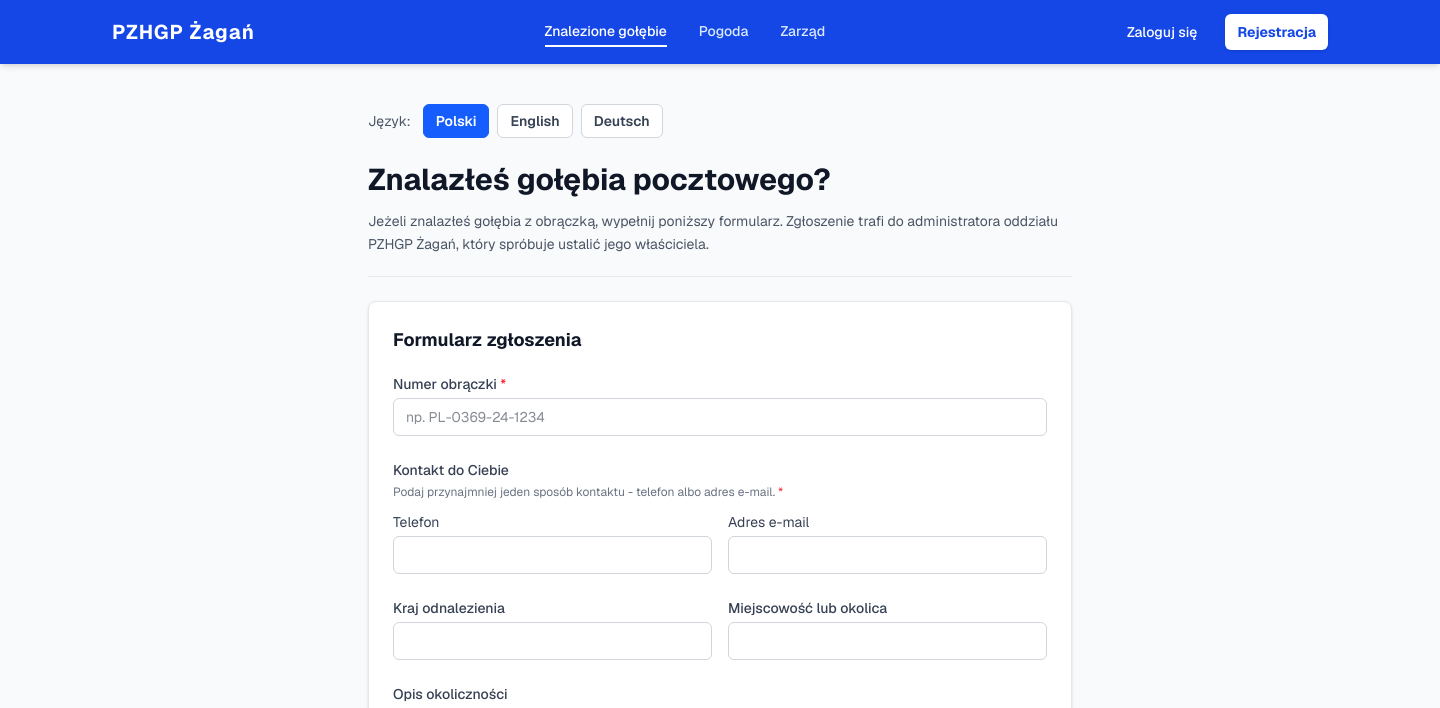
Found Pigeons Page Tests › Should require a ring number
Check: the navigation bar named "Główna nawigacja" is shown, box [0,0,1439,64]
Check: the link "PZHGP Żagań" is shown, box [112,18,255,46]
Type "601234567" into the field with id "contact-phone".
click(553, 555); type("601234567")  # box [393,536,712,574]
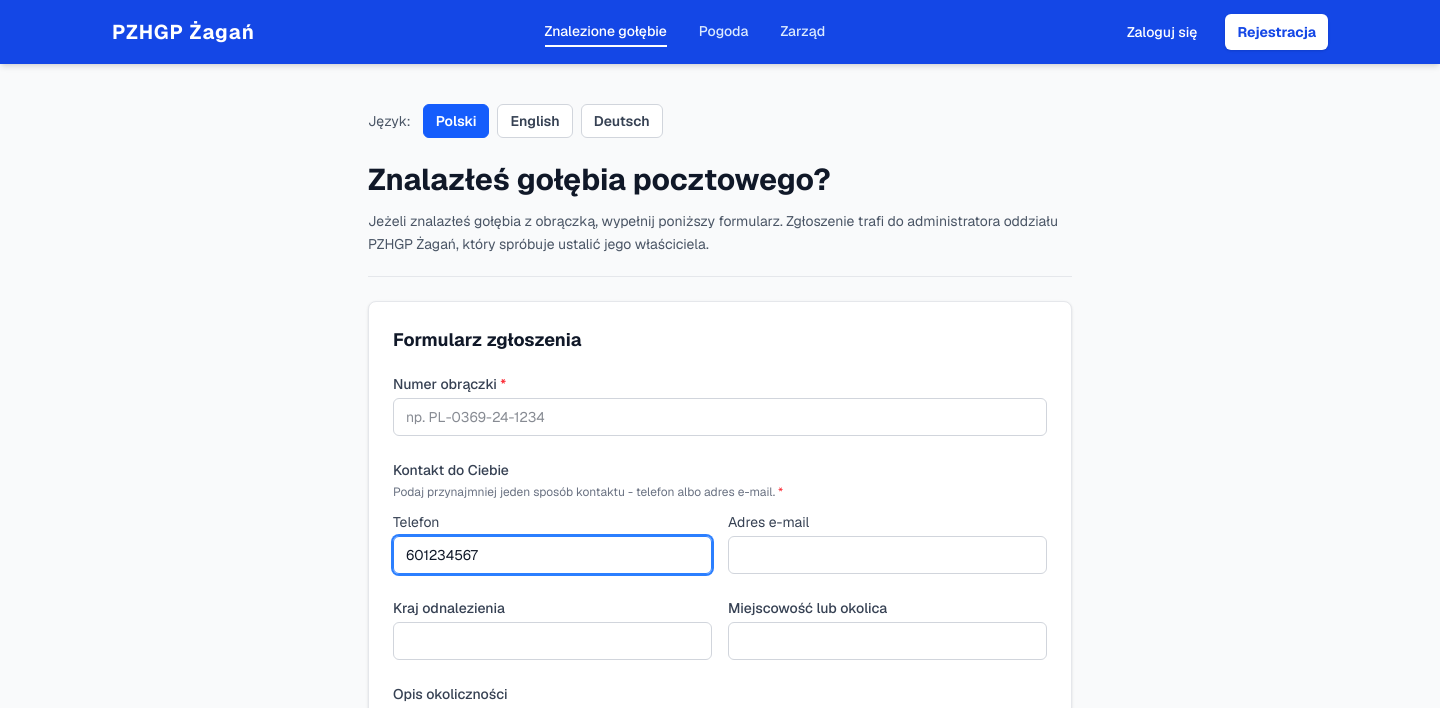
Scroll
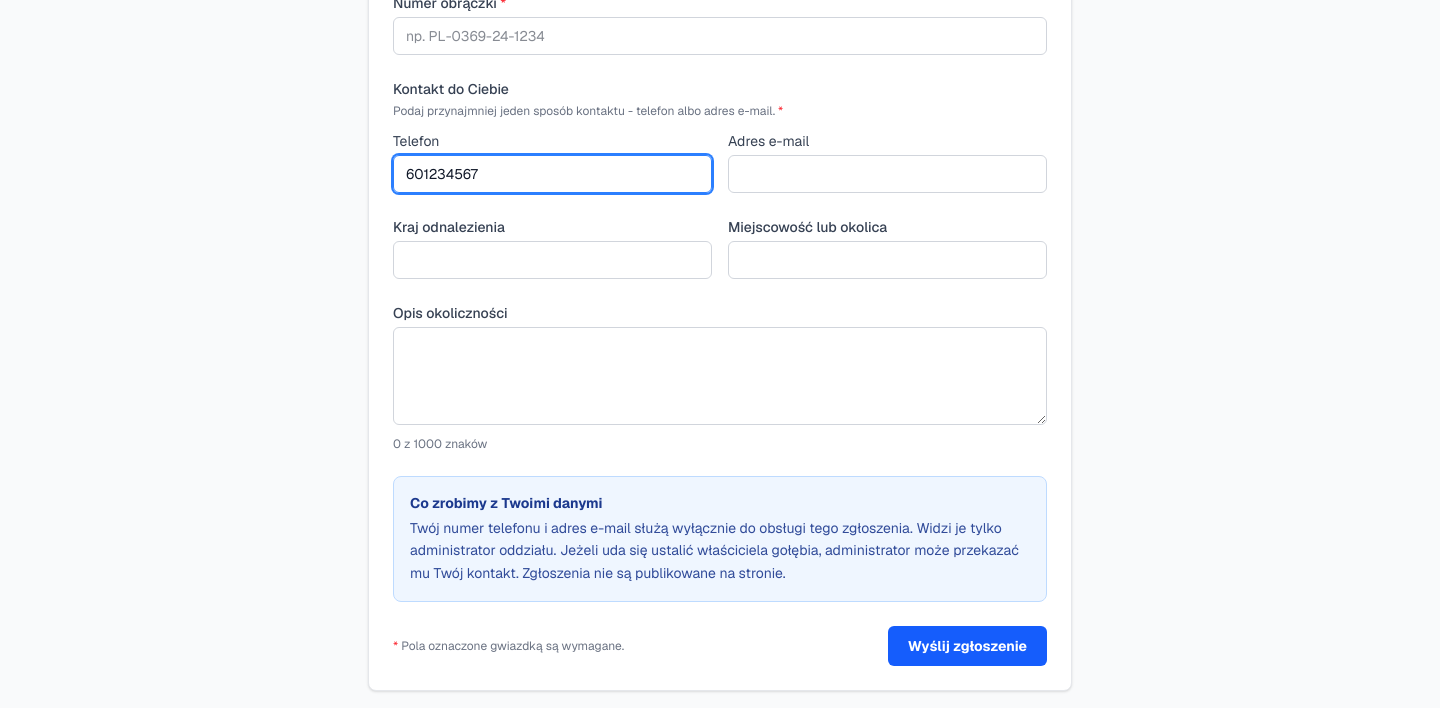
Click the button "Wyślij zgłoszenie".
click(968, 646)  # box [888,626,1047,666]
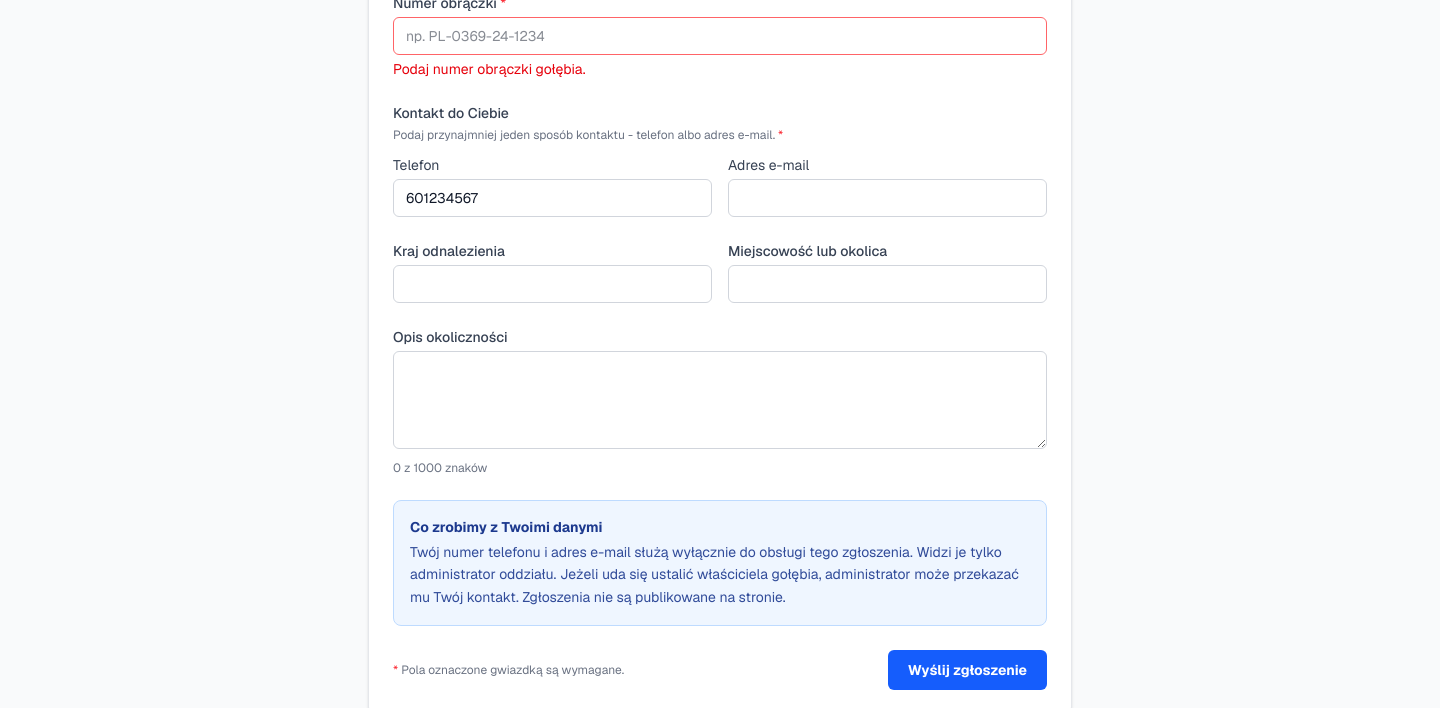
Check: the text "Podaj numer obrączki gołębia." is shown, box [393,60,586,78]
